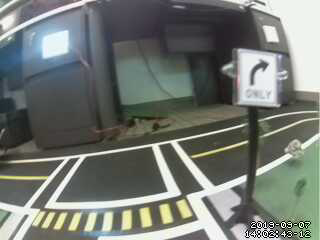Right_only_sign: (237, 48, 283, 107)
